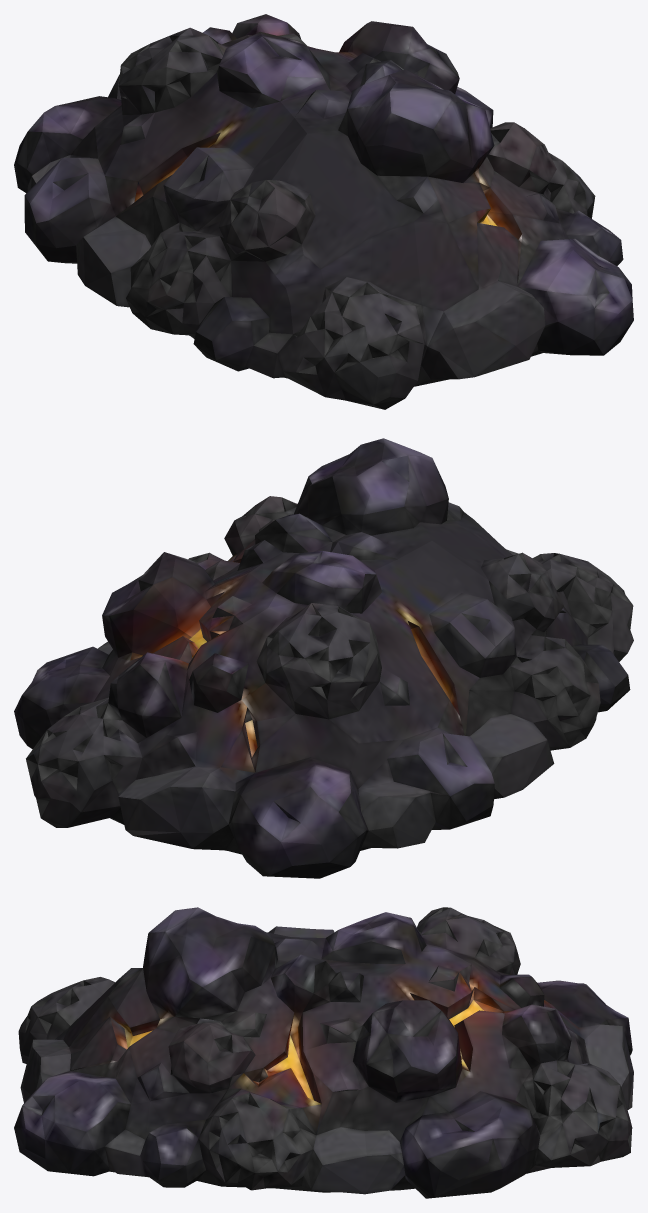
Rendered from slag_heap.glb.
3 renders of one model, top to bottom at view 1: azimuth 30°, elevation 25°; view 2: azimuth 150°, elevation 25°; view 3: azimuth 270°, elevation 25°, orthographic. The views are drawn at different scales.
Parts seen in each view (by area): view 1: tripo_node_6df2454b-cd29-4236-aae7-f949df16c549.001; view 2: tripo_node_6df2454b-cd29-4236-aae7-f949df16c549.001; view 3: tripo_node_6df2454b-cd29-4236-aae7-f949df16c549.001.
Boxes of the visible parts, box(x1,y1,x2,y2) form: tripo_node_6df2454b-cd29-4236-aae7-f949df16c549.001: box(14, 14, 633, 409); tripo_node_6df2454b-cd29-4236-aae7-f949df16c549.001: box(14, 438, 633, 878); tripo_node_6df2454b-cd29-4236-aae7-f949df16c549.001: box(14, 907, 633, 1198).
Bounding box in the file's own units: 0.7602 × 0.3702 × 1.
Materials: 1 (1 with a texture image).
